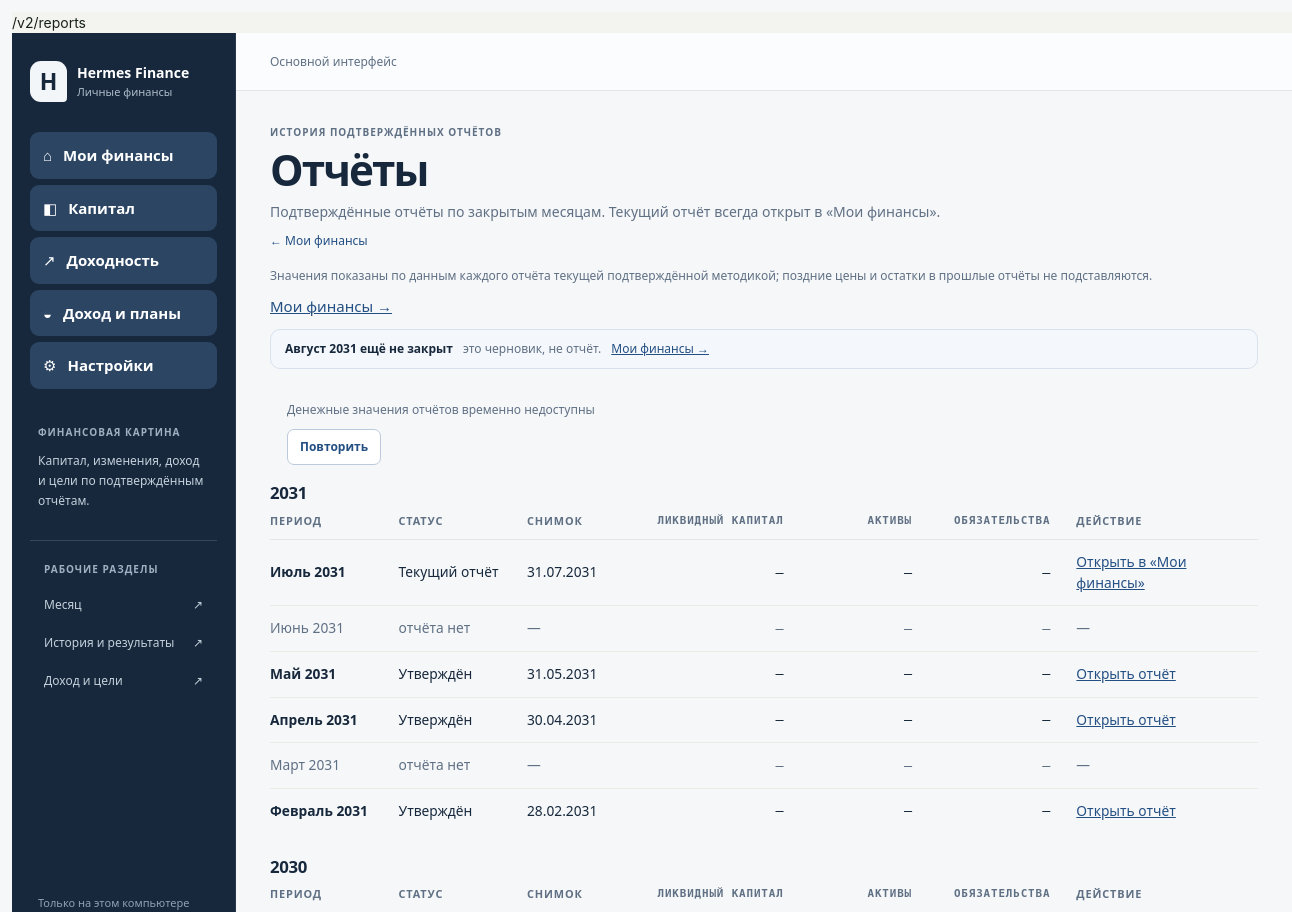
Test case: UI v2 reports archive › hides every money value and offers a retry when the composition read fails
Expected: the row with test id "reports-row-90" does not show "2 761 300 ₽", left=270, top=652, right=1258, bottom=697
Expected: the text "Денежные значения отчётов временно недоступны" is shown, left=287, top=401, right=595, bottom=419
Click the button "Повторить".
click(334, 447)  # box left=287, top=429, right=381, bottom=465
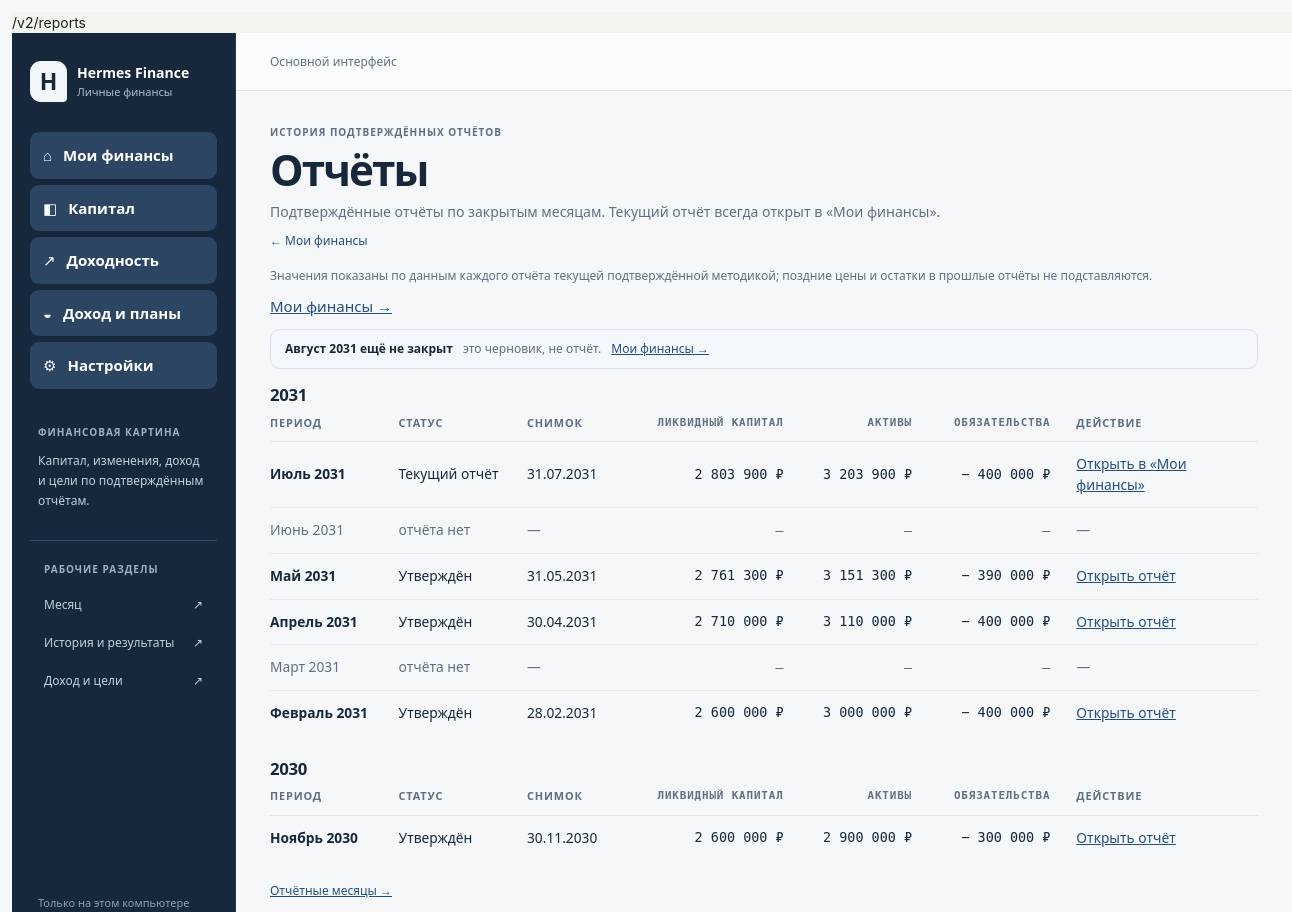
Expected: the row with test id "reports-row-90" shows "2 761 300 ₽", left=695, top=568, right=784, bottom=583
